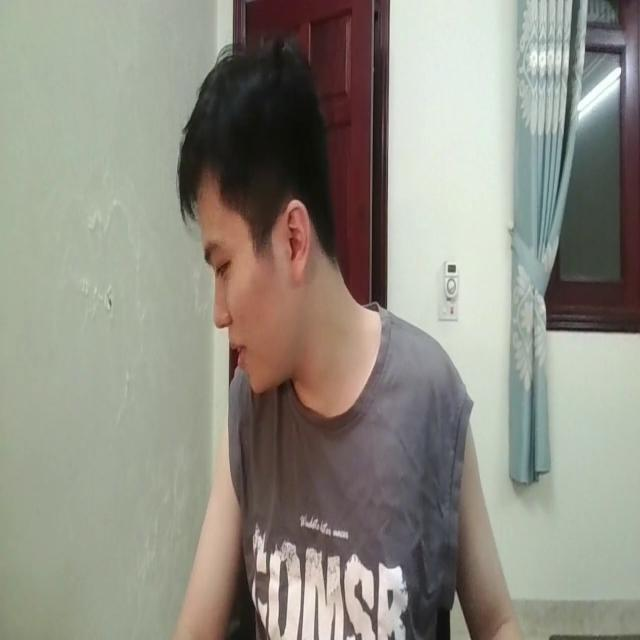student: (146, 30, 509, 640)
